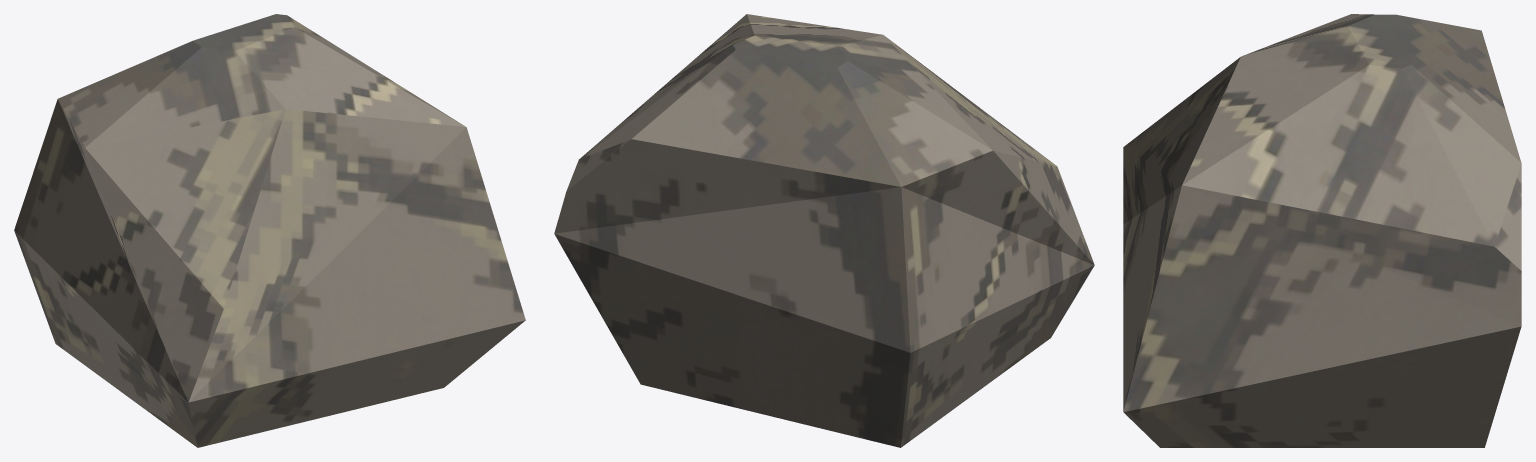
Rendered from Stones_Obstacle_3.fbx.
3 views of the same model, side by side, from view 1: azimuth 30°, elevation 25°; view 2: azimuth 150°, elevation 25°; view 3: azimuth 270°, elevation 25° (orthographic). The views are drawn at different scales.
Parts seen in each view (by area): view 1: Cube.006; view 2: Cube.006; view 3: Cube.006.
Part boxes in pixels (bbox=[...]): Cube.006: bbox=[14, 14, 525, 447]; Cube.006: bbox=[554, 14, 1094, 447]; Cube.006: bbox=[1123, 14, 1521, 447].
Bounding box in the file's own units: 60.71 × 52.32 × 53.77.
